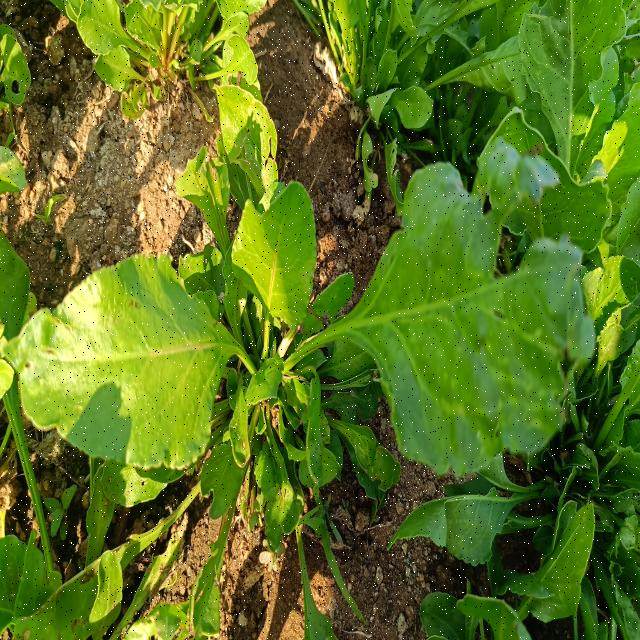leaves: (269, 139, 601, 500), (1, 226, 268, 455), (1, 444, 229, 638), (514, 4, 640, 196), (228, 173, 320, 410), (381, 464, 552, 575), (488, 496, 611, 631), (198, 77, 289, 223), (176, 135, 245, 312), (313, 385, 411, 505), (195, 397, 261, 536), (256, 400, 305, 582), (275, 394, 343, 514), (230, 351, 292, 420)
